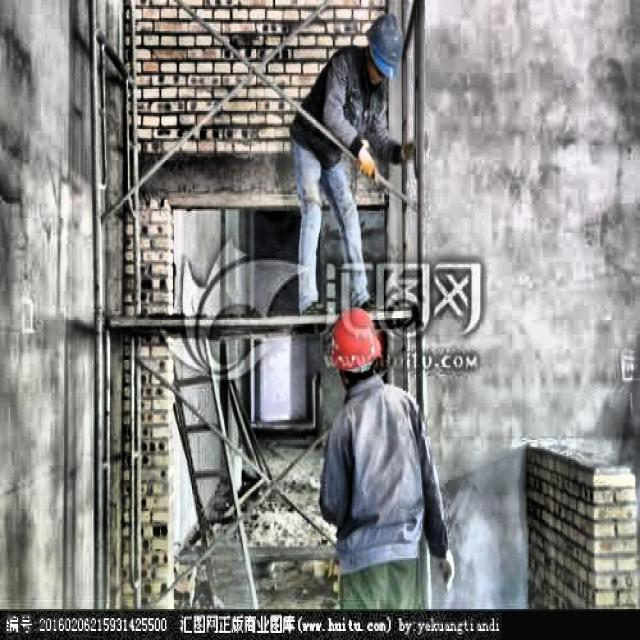helmet: (329, 305, 384, 393), (364, 9, 404, 86)
